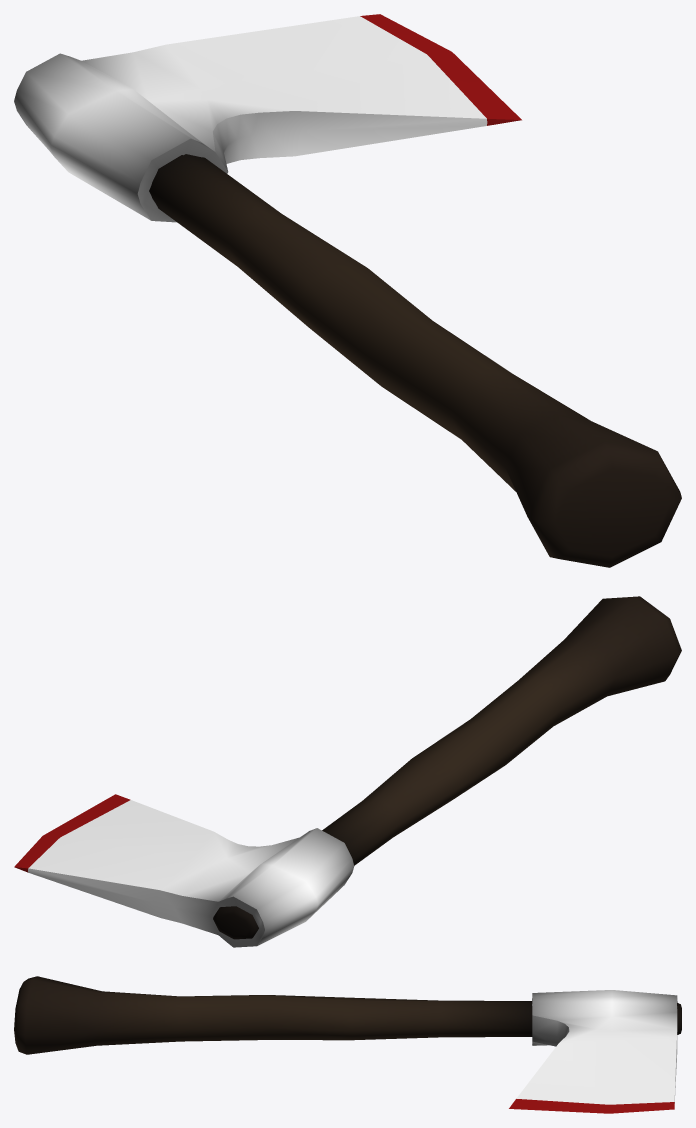
The model's file is Hatchet.fbx.
The picture shows the model from 3 angles, top to bottom: view 1: azimuth 30°, elevation 25°; view 2: azimuth 150°, elevation 25°; view 3: azimuth 270°, elevation 25°; orthographic projection. The views are drawn at different scales.
Parts seen in each view (by area): view 1: Hatchet; view 2: Hatchet; view 3: Hatchet.
Boxes of the visible parts, x1,y1,x2,y2 form: Hatchet: (14,14,681,567); Hatchet: (14,596,681,947); Hatchet: (14,976,681,1113).
Size of the model in its own units: 47.52 by 13.49 by 114.
